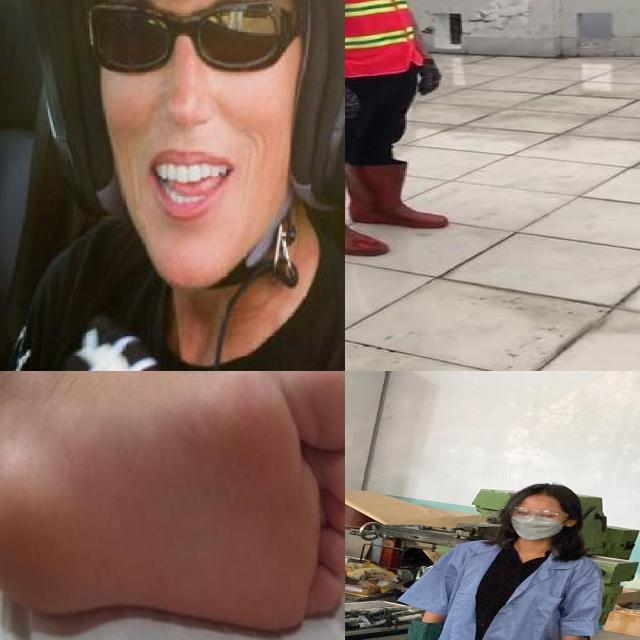Barefoots: (0, 371, 345, 640)
boots: (345, 157, 451, 233), (345, 176, 391, 259)
face_mask: (509, 505, 565, 537)
face_nomask: (84, 0, 291, 227)
glasses: (78, 0, 320, 78), (508, 504, 572, 521)
hand_glove: (13, 298, 165, 371), (416, 56, 453, 97), (345, 88, 364, 122)
head_nohelmet: (507, 479, 575, 506)
person: (361, 475, 623, 640), (345, 0, 463, 258)
vest: (345, 0, 423, 77)
